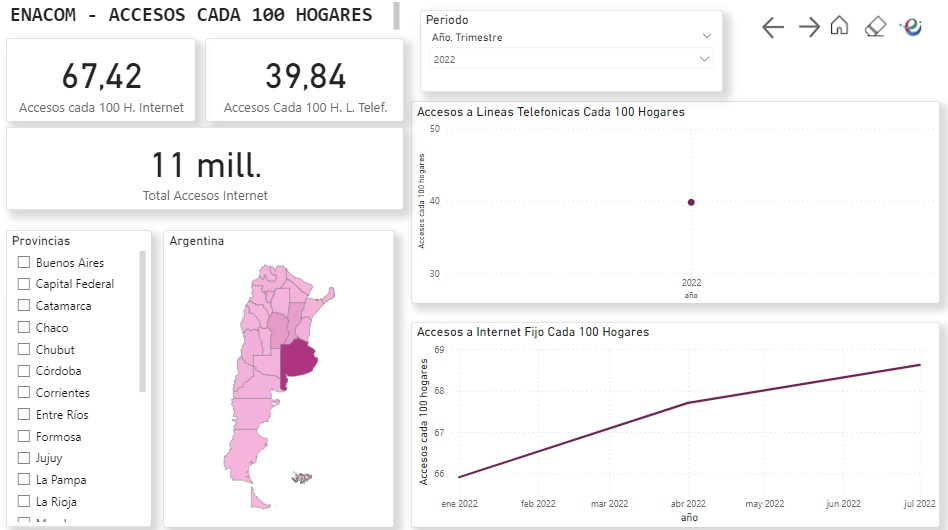

Layout of this report page (visuals, bound fields, positions):
{"tool":"powerbi","page":{"name":"AccesosCada100","canvas":[1280,720],"ordinal":1},"visuals":[{"type":"lineChart","title":"Accesos a Lineas Telefonicas Cada 100 Hogares","fields":{"Y":["Avg(enacom accesos_cada_100_telefonia_fija.accesos_cada_100_hogares)"],"Category":["enacom accesos_cada_100_telefonia_fija.Fecha"]},"box":[552.7,137.8,705.6,269.5],"z":0},{"type":"textbox","box":[12.1,0,530,53],"z":1000},{"type":"lineChart","title":"Accesos a Internet Fijo Cada 100 Hogares","fields":{"Y":["Avg(enacom accesos_cada_100_hogares_internet.accesos_cada_100_hogares)"],"Category":["enacom accesos_cada_100_hogares_internet.Fecha"]},"box":[552.7,431.5,705.6,274.1],"z":2000},{"type":"slicer","title":"Periodo","fields":{"Values":["Calendario.Year","Calendario.Quarter"]},"box":[563.3,15.1,404.3,109],"z":3000},{"type":"card","fields":{"Values":["Avg(enacom accesos_cada_100_telefonia_fija.accesos_cada_100_hogares)"]},"box":[277.1,54.5,265,110.5],"z":4000},{"type":"card","fields":{"Values":["Avg(enacom accesos_cada_100_hogares_internet.accesos_cada_100_hogares)"]},"box":[12.1,54.5,252.9,110.5],"z":5000},{"type":"card","fields":{"Values":["enacom acceso_tecnologia_provincia.TotalAccesos"]},"box":[12.1,172.6,530,110.5],"z":6000},{"type":"slicer","title":"Provincias","fields":{"Values":["enacom provincias.nombre"]},"box":[12.1,310.4,193.8,395.2],"z":7000},{"type":"shapeMap","title":"Argentina","fields":{"Category":["enacom provincias.nombre"],"Value":["enacom acceso_tecnologia_provincia.TotalAccesos"]},"box":[221.4,310,307.1,395.7],"z":8000},{"type":"actionButton","box":[1015.9,20.9,40.9,39.4],"z":9000},{"type":"actionButton","box":[1104.2,19,47.4,39.5],"z":10000},{"type":"actionButton","box":[1151.6,19,44.2,39.5],"z":11000},{"type":"actionButton","box":[1195.1,12.1,48.1,53.9],"z":12000},{"type":"actionButton","box":[1064.1,20.9,40.9,38],"z":13000}]}

Visuals, with their boxes in screenshot pixels (x1, y1, x2, y2), scaled from the page's 1280x720 canvas onto the 948x530 screenshot:
"Accesos a Lineas Telefonicas Cada 100 Hogares" lineChart: <bbox>409, 101, 932, 300</bbox>
textbox: <bbox>9, 0, 401, 39</bbox>
"Accesos a Internet Fijo Cada 100 Hogares" lineChart: <bbox>409, 318, 932, 519</bbox>
"Periodo" slicer: <bbox>417, 11, 717, 91</bbox>
card - Avg(enacom accesos_cada_100_telefonia_fija.accesos_cada_100_hogares): <bbox>205, 40, 401, 121</bbox>
card - Avg(enacom accesos_cada_100_hogares_internet.accesos_cada_100_hogares): <bbox>9, 40, 196, 121</bbox>
card - enacom acceso_tecnologia_provincia.TotalAccesos: <bbox>9, 127, 401, 208</bbox>
"Provincias" slicer: <bbox>9, 228, 152, 519</bbox>
"Argentina" shapeMap: <bbox>164, 228, 391, 519</bbox>
actionButton: <bbox>752, 15, 783, 44</bbox>
actionButton: <bbox>818, 14, 853, 43</bbox>
actionButton: <bbox>853, 14, 886, 43</bbox>
actionButton: <bbox>885, 9, 921, 49</bbox>
actionButton: <bbox>788, 15, 818, 43</bbox>
